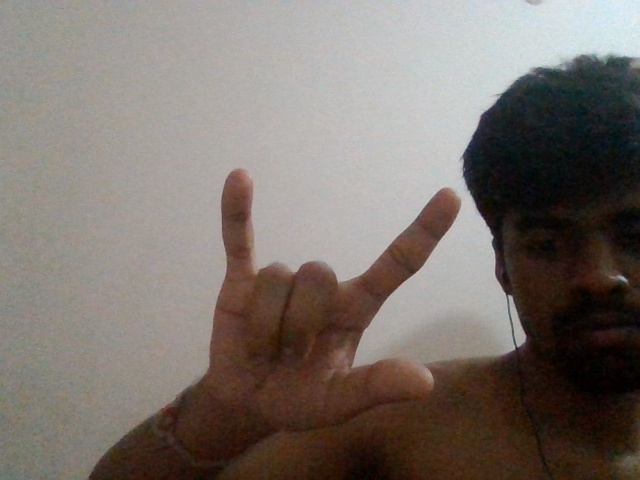ILoveYou: (202, 160, 467, 436)
